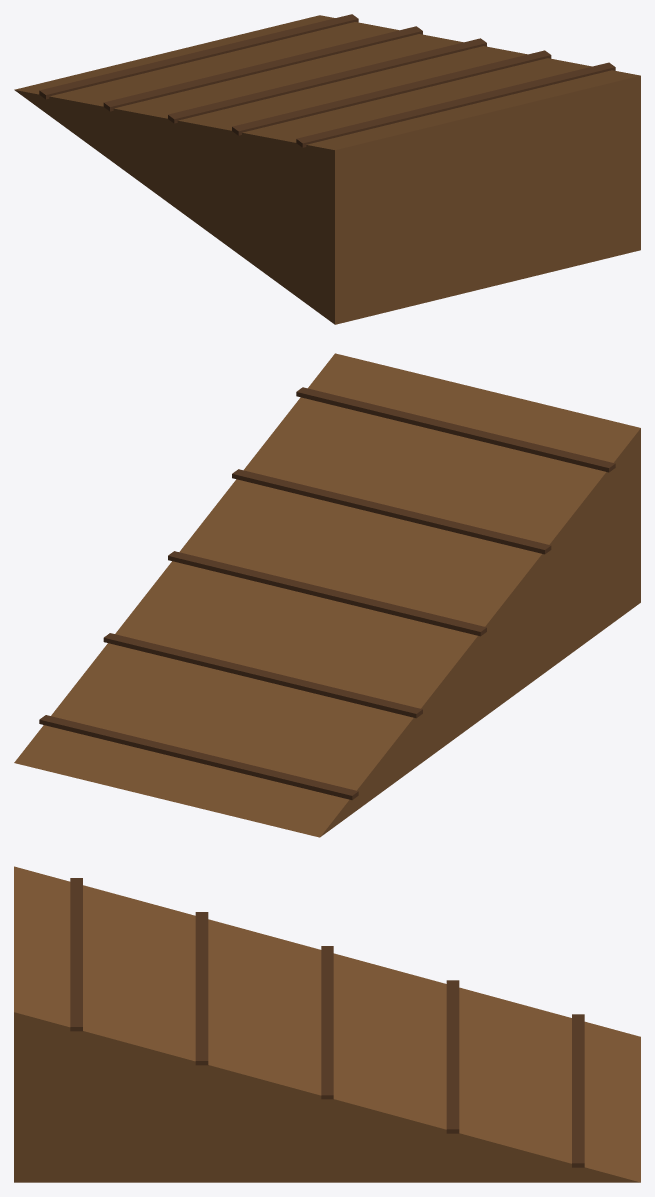
Rendered from SM_Ramp.fbx.
The picture shows the model from 3 angles, top to bottom: view 1: azimuth 30°, elevation 25°; view 2: azimuth 150°, elevation 25°; view 3: azimuth 270°, elevation 25°; orthographic projection. The views are drawn at different scales.
Parts seen in each view (by area): view 1: SM_Ramp, SM_Ramp_Plank4, SM_Ramp_Plank0, SM_Ramp_Plank3, SM_Ramp_Plank2, SM_Ramp_Plank1; view 2: SM_Ramp, SM_Ramp_Plank3, SM_Ramp_Plank4, SM_Ramp_Plank0, SM_Ramp_Plank1, SM_Ramp_Plank2; view 3: SM_Ramp, SM_Ramp_Plank1, SM_Ramp_Plank3, SM_Ramp_Plank0, SM_Ramp_Plank2, SM_Ramp_Plank4.
Boxes of the visible parts, x1=… form: SM_Ramp: x1=14, y1=15, x2=640, y2=324; SM_Ramp_Plank4: x1=296, y1=62, x2=615, y2=147; SM_Ramp_Plank0: x1=39, y1=14, x2=358, y2=99; SM_Ramp_Plank3: x1=232, y1=50, x2=551, y2=135; SM_Ramp_Plank2: x1=168, y1=38, x2=486, y2=123; SM_Ramp_Plank1: x1=103, y1=26, x2=422, y2=111; SM_Ramp: x1=14, y1=353, x2=640, y2=837; SM_Ramp_Plank3: x1=232, y1=469, x2=551, y2=554; SM_Ramp_Plank4: x1=296, y1=387, x2=615, y2=472; SM_Ramp_Plank0: x1=39, y1=715, x2=358, y2=799; SM_Ramp_Plank1: x1=103, y1=633, x2=422, y2=718; SM_Ramp_Plank2: x1=168, y1=551, x2=486, y2=636; SM_Ramp: x1=14, y1=866, x2=640, y2=1182; SM_Ramp_Plank1: x1=446, y1=980, x2=459, y2=1133; SM_Ramp_Plank3: x1=195, y1=912, x2=208, y2=1065; SM_Ramp_Plank0: x1=572, y1=1014, x2=584, y2=1167; SM_Ramp_Plank2: x1=321, y1=946, x2=333, y2=1099; SM_Ramp_Plank4: x1=70, y1=878, x2=82, y2=1031.
Size of the model in its own units: 2.25 by 4 by 1.2.
